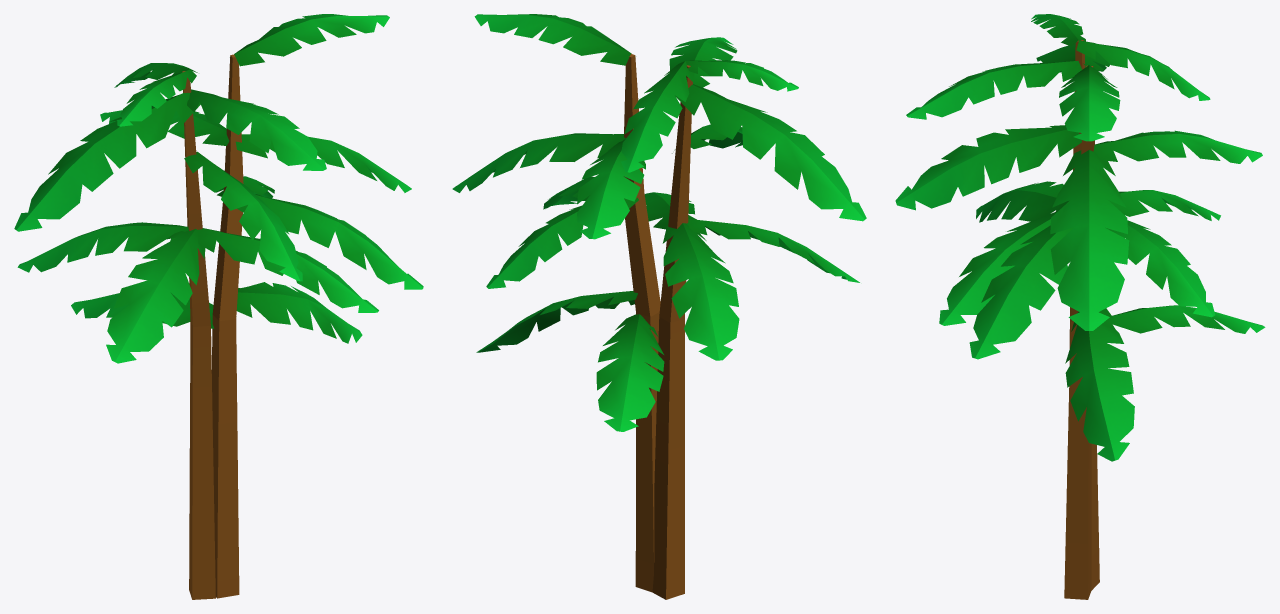
File: Tree_1.fbx
3 views of the same model, side by side, from view 1: azimuth 30°, elevation 25°; view 2: azimuth 150°, elevation 25°; view 3: azimuth 270°, elevation 25° (orthographic).
Parts seen in each view (by area): view 1: Tree_1; view 2: Tree_1; view 3: Tree_1.
Boxes of the visible parts, x1,y1,x2,y2 form: Tree_1: (14,14,423,599); Tree_1: (452,14,866,599); Tree_1: (895,14,1265,599).
Size of the model in its own units: 2.25 by 2.92 by 1.77.
